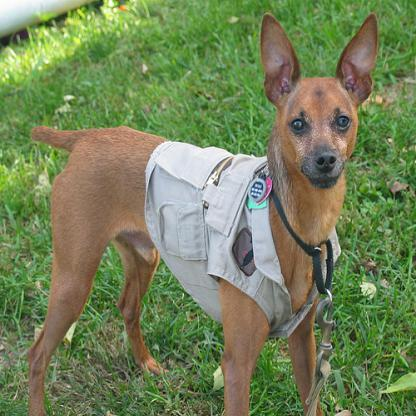dog: (25, 10, 380, 414)
